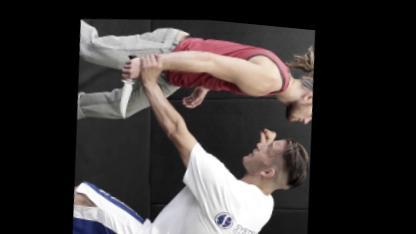knife: (113, 46, 148, 119)
